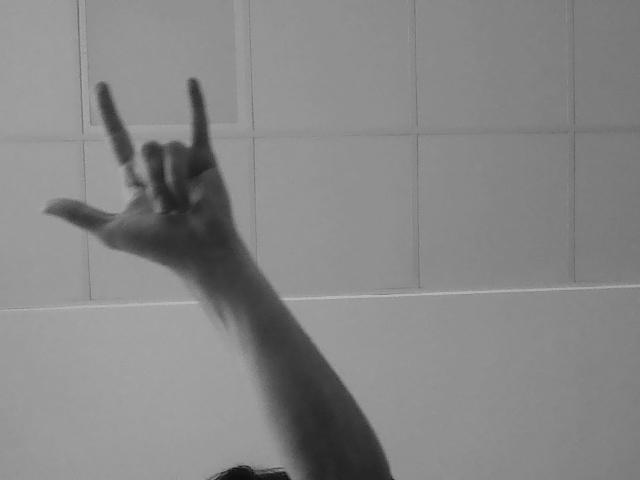I_Love_You: (10, 52, 284, 278)
